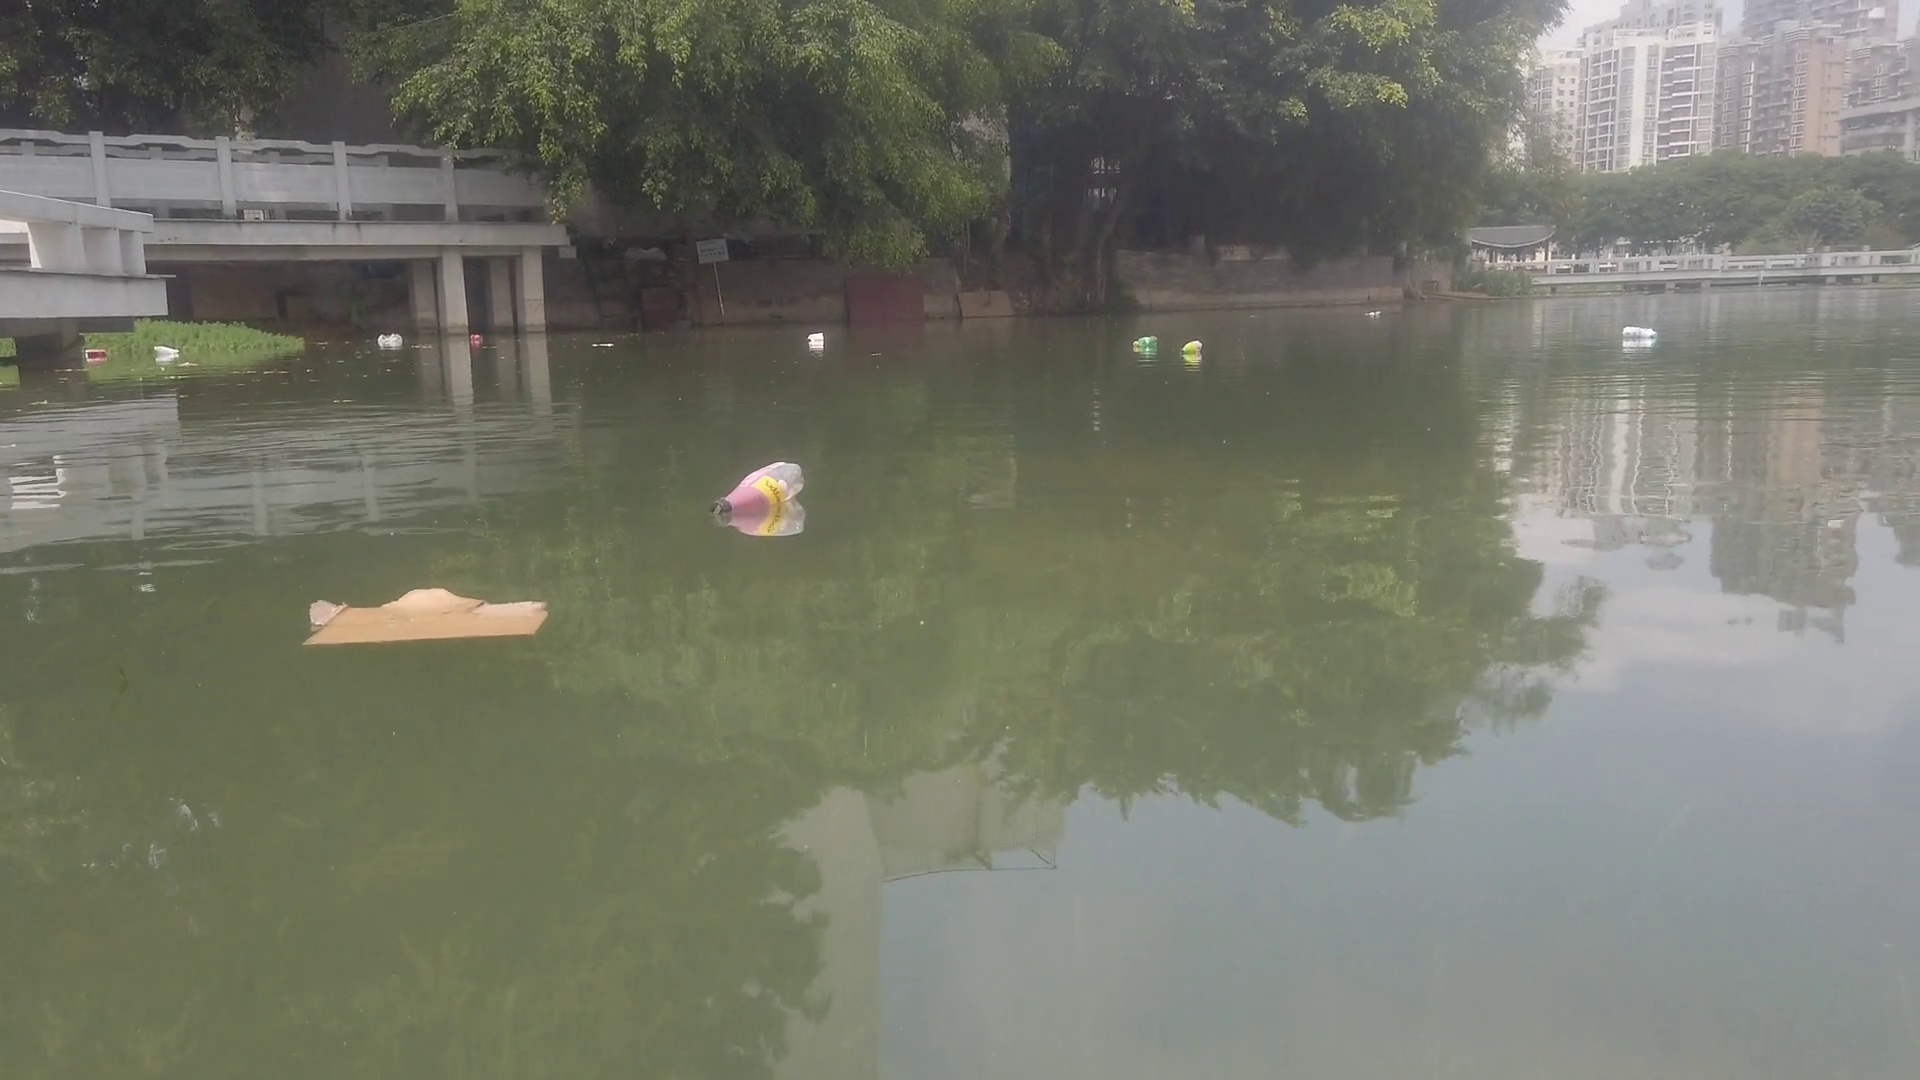bottle: (1127, 328, 1158, 348), (1618, 324, 1660, 338), (464, 328, 485, 345), (1182, 338, 1203, 355)
carton: (804, 328, 825, 344)
paper: (301, 579, 555, 647), (704, 454, 810, 512), (82, 344, 109, 361), (588, 339, 617, 353)
plastic: (149, 343, 187, 360), (372, 330, 404, 348)
